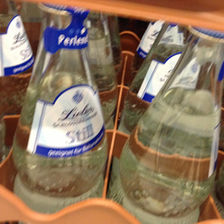water: (112, 23, 224, 222), (11, 4, 109, 211)
